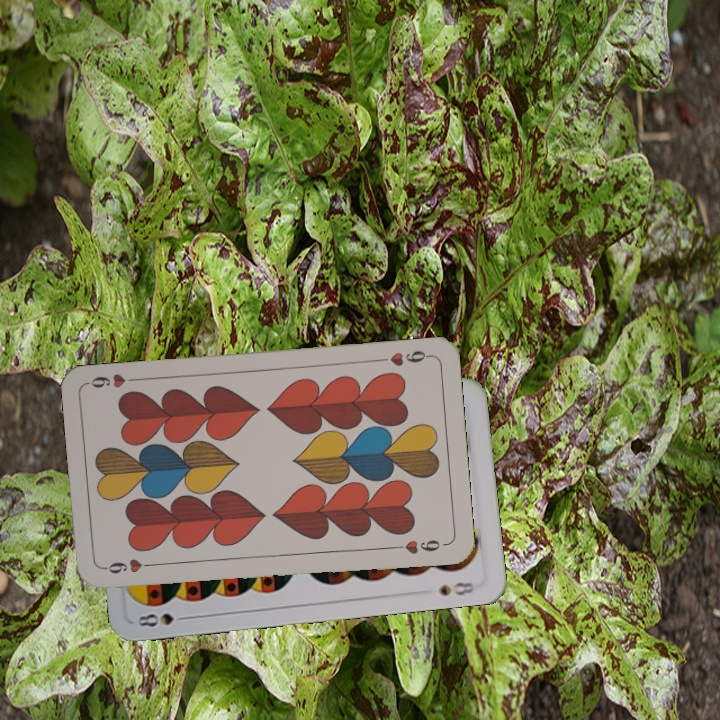H9: (374, 346, 433, 369), (100, 554, 159, 576)
S8: (133, 609, 193, 630)
